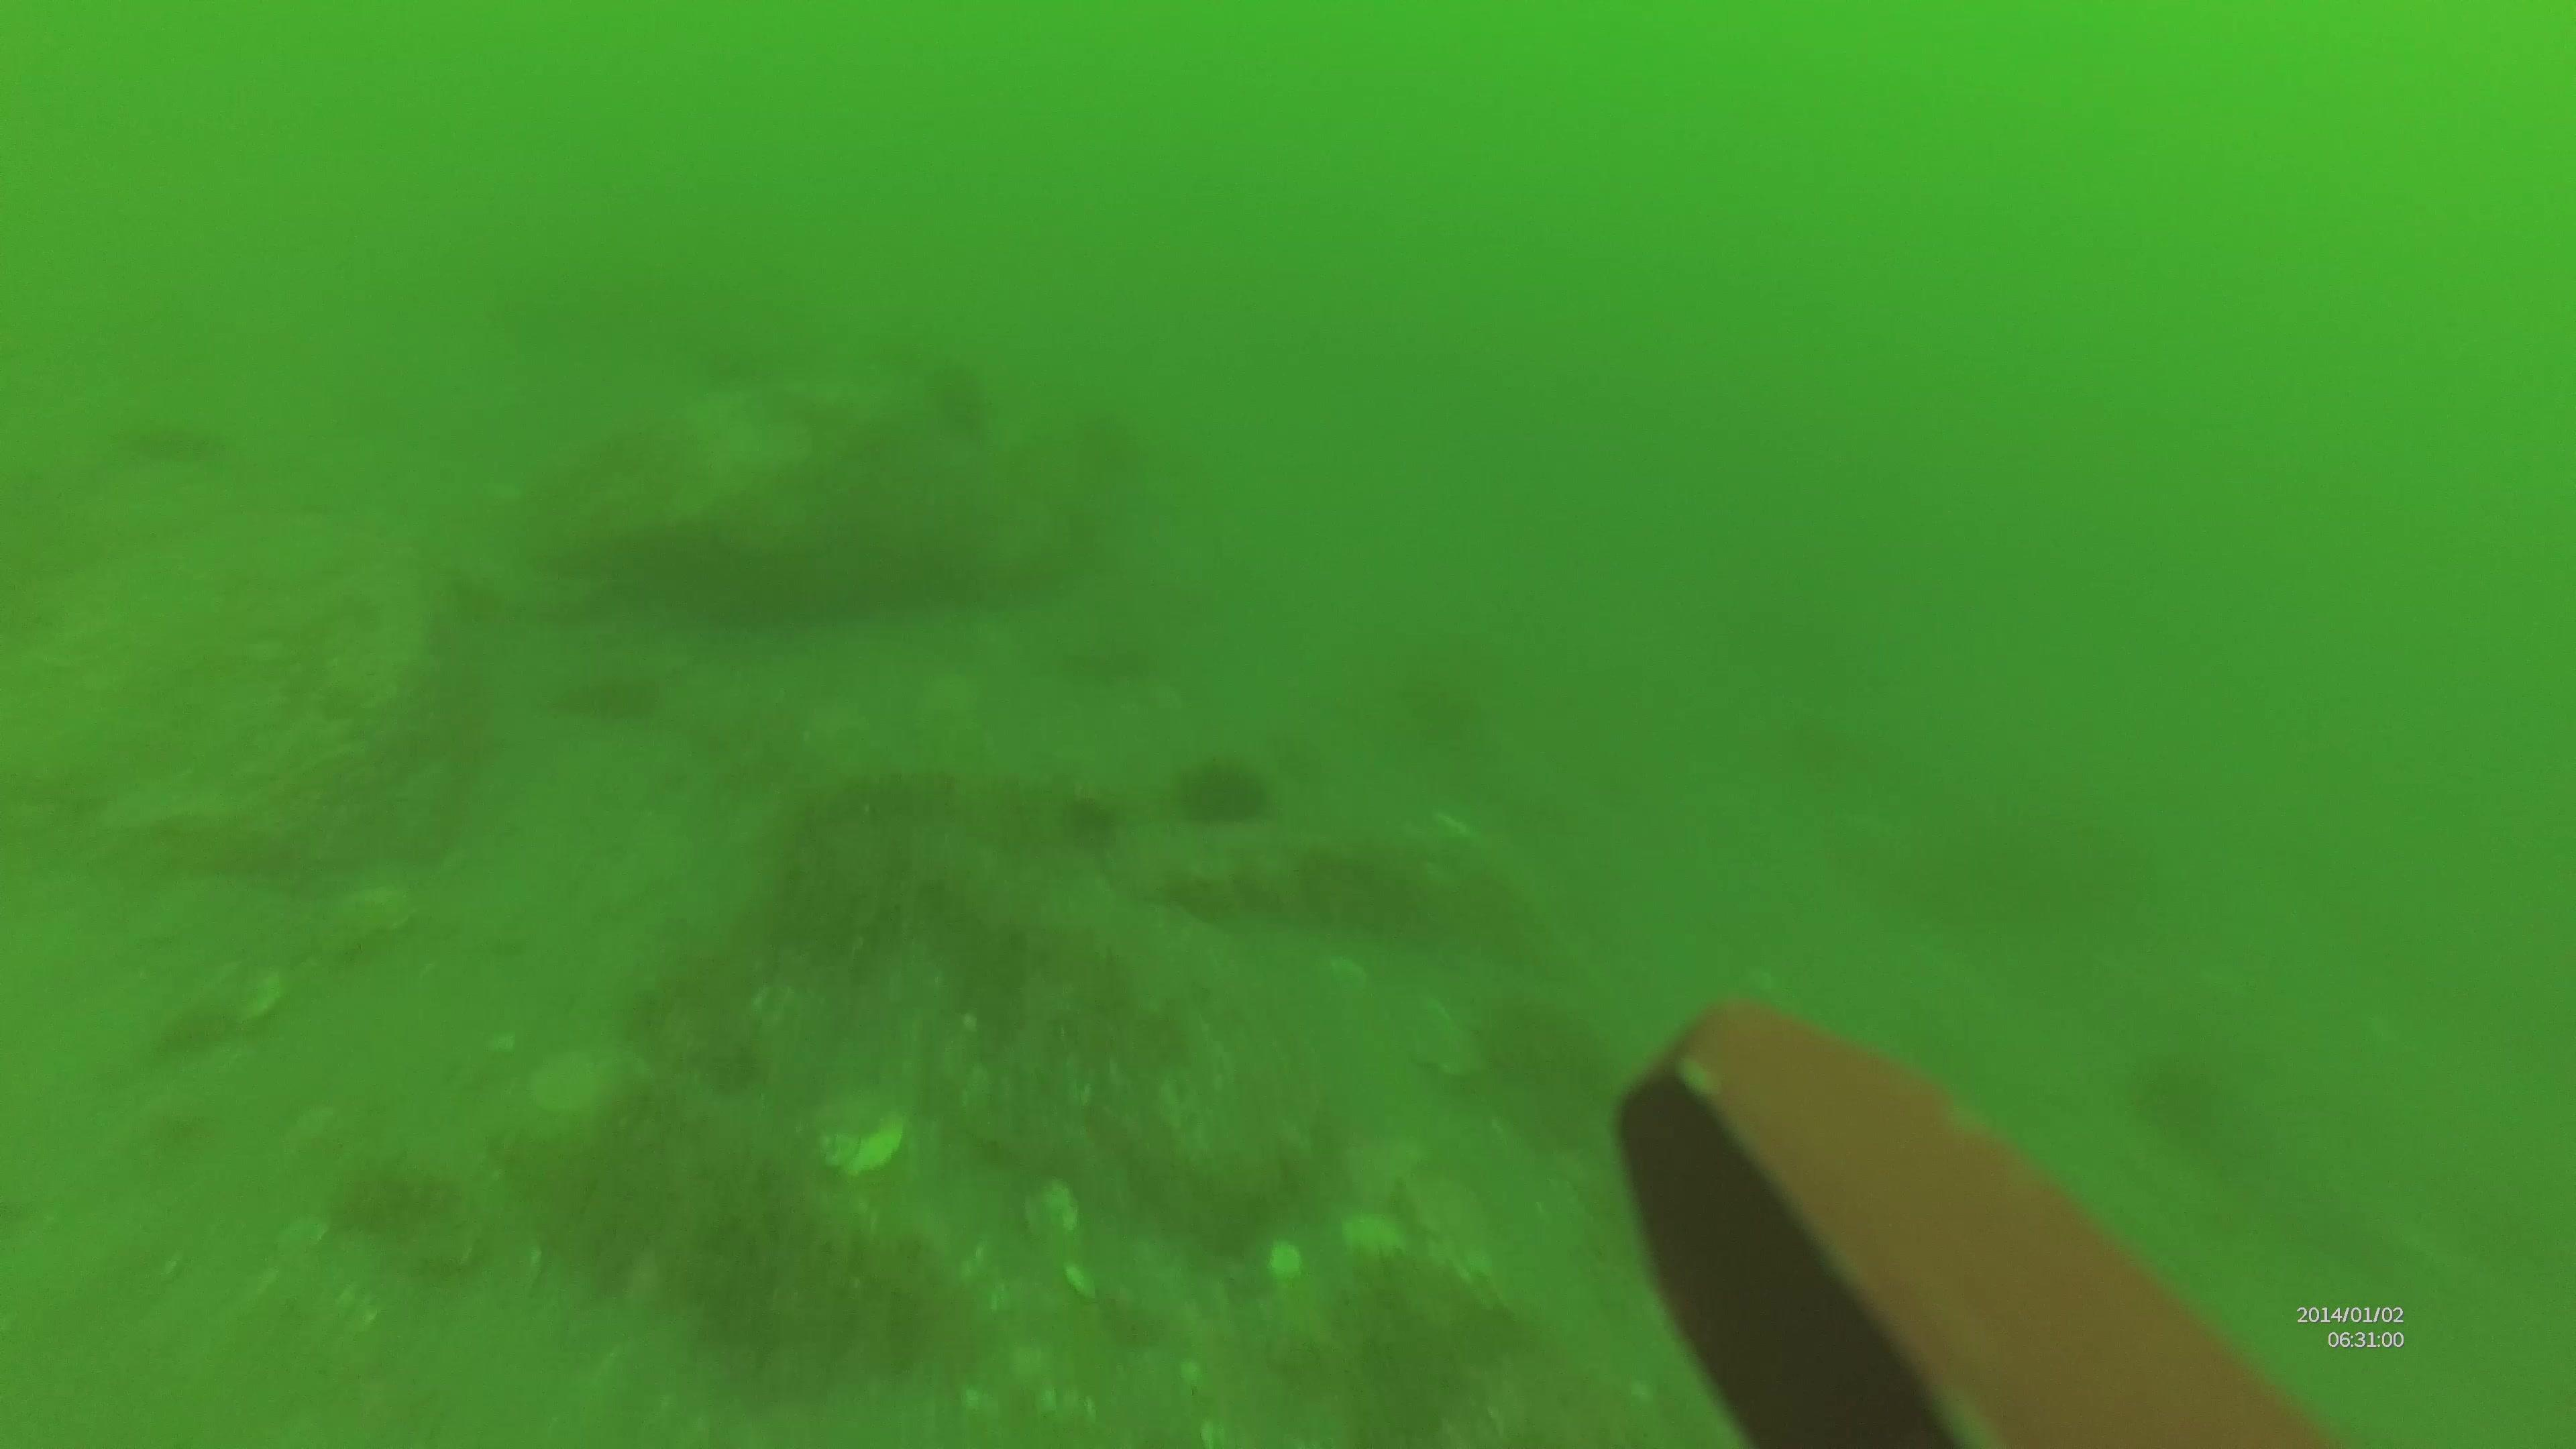echinus: (1175, 750, 1300, 832)
